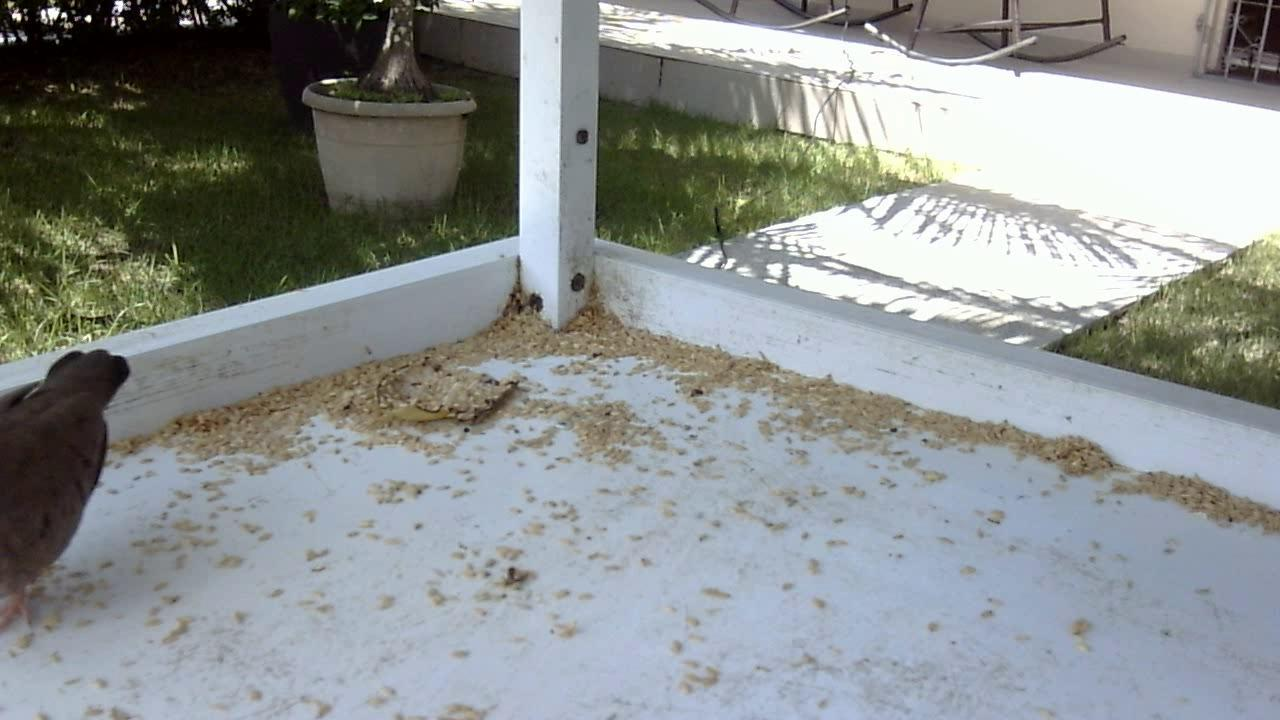rolinha: (1, 341, 141, 638)
